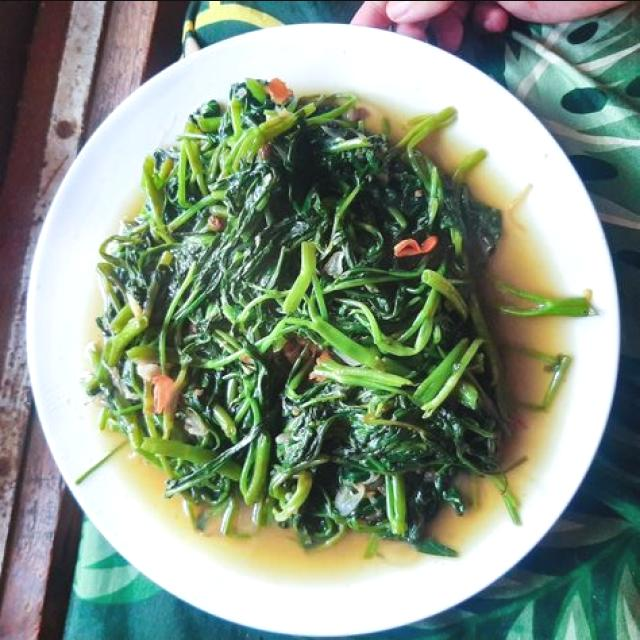tumis kangkung: (88, 78, 505, 554)
